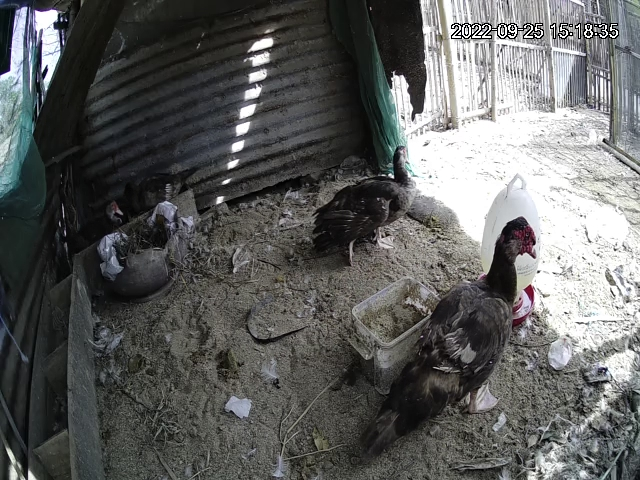Mengeram: (61, 167, 197, 270)
